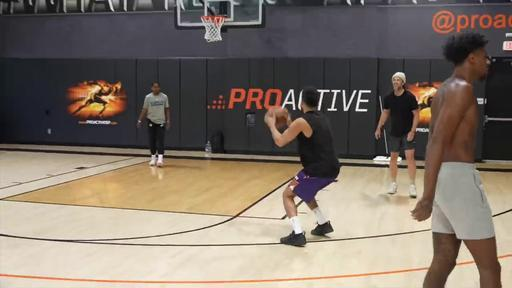ball: (267, 106, 287, 127)
human: (410, 31, 501, 288), (264, 86, 340, 246), (374, 72, 420, 198), (136, 82, 170, 166)
rim: (200, 15, 224, 42)
